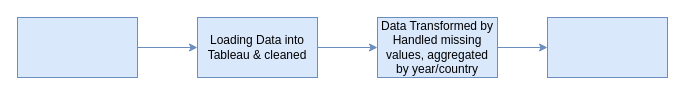
Image size: 685x95. Some labels were removed from this diagram. The centre of each missing label's shape, as x and y in pixels:
"Berkely Earth Data (Collected from Kaggle)" belongs at (77,47).
"Creating maps, bar charts, and time-series plots." belongs at (607,47).
